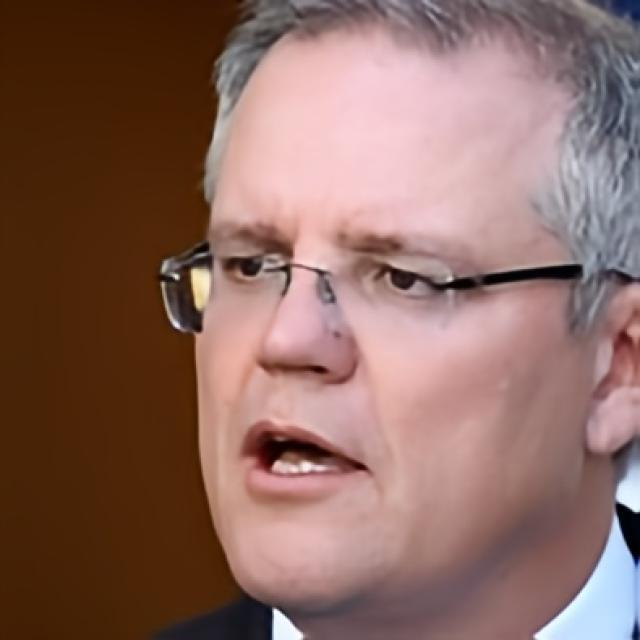anger: (194, 78, 584, 616)
